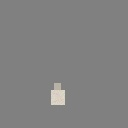personnel: (51, 90, 65, 105)
